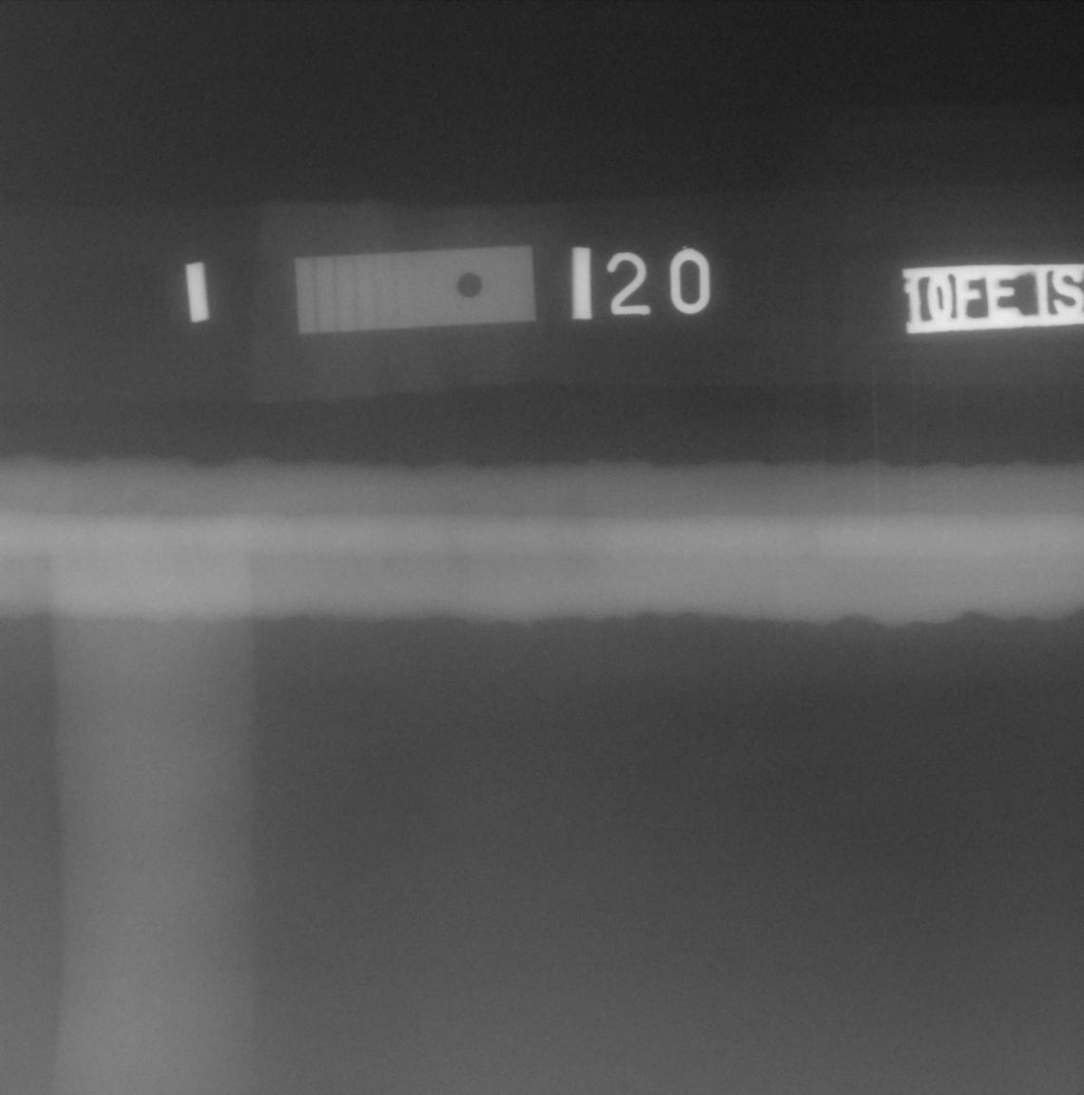Reference Standard 1: (294, 244, 536, 334)
